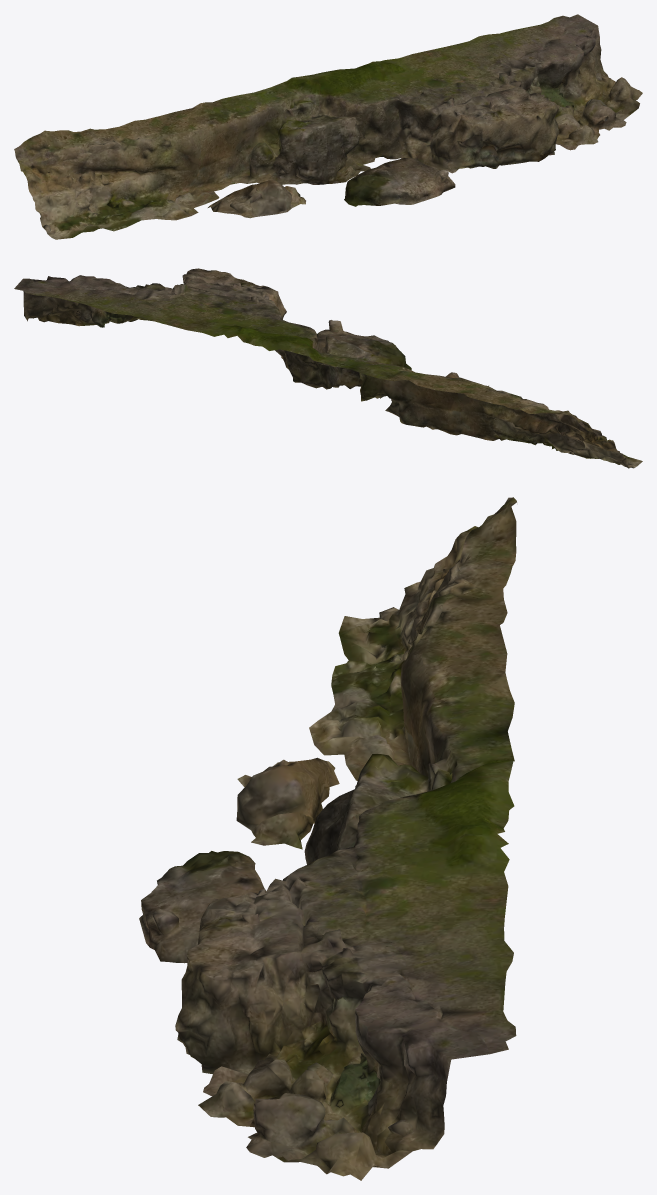
The model's file is coastal_cliff_04.glb.
3 renders of one model, top to bottom at view 1: azimuth 30°, elevation 25°; view 2: azimuth 150°, elevation 25°; view 3: azimuth 270°, elevation 25°, orthographic. The views are drawn at different scales.
Visible parts, largest first — view 1: coastal_cliff_04; view 2: coastal_cliff_04; view 3: coastal_cliff_04.
Boxes of the visible parts, <box> form: coastal_cliff_04: <box>14,14,642,239</box>; coastal_cliff_04: <box>14,268,642,468</box>; coastal_cliff_04: <box>139,497,516,1180</box>.
Size of the model in its own units: 86.77 by 10.99 by 24.23.
Materials: 1 (1 with a texture image).
